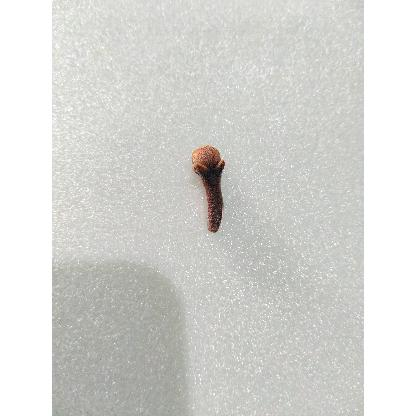baik: (192, 146, 226, 234)
